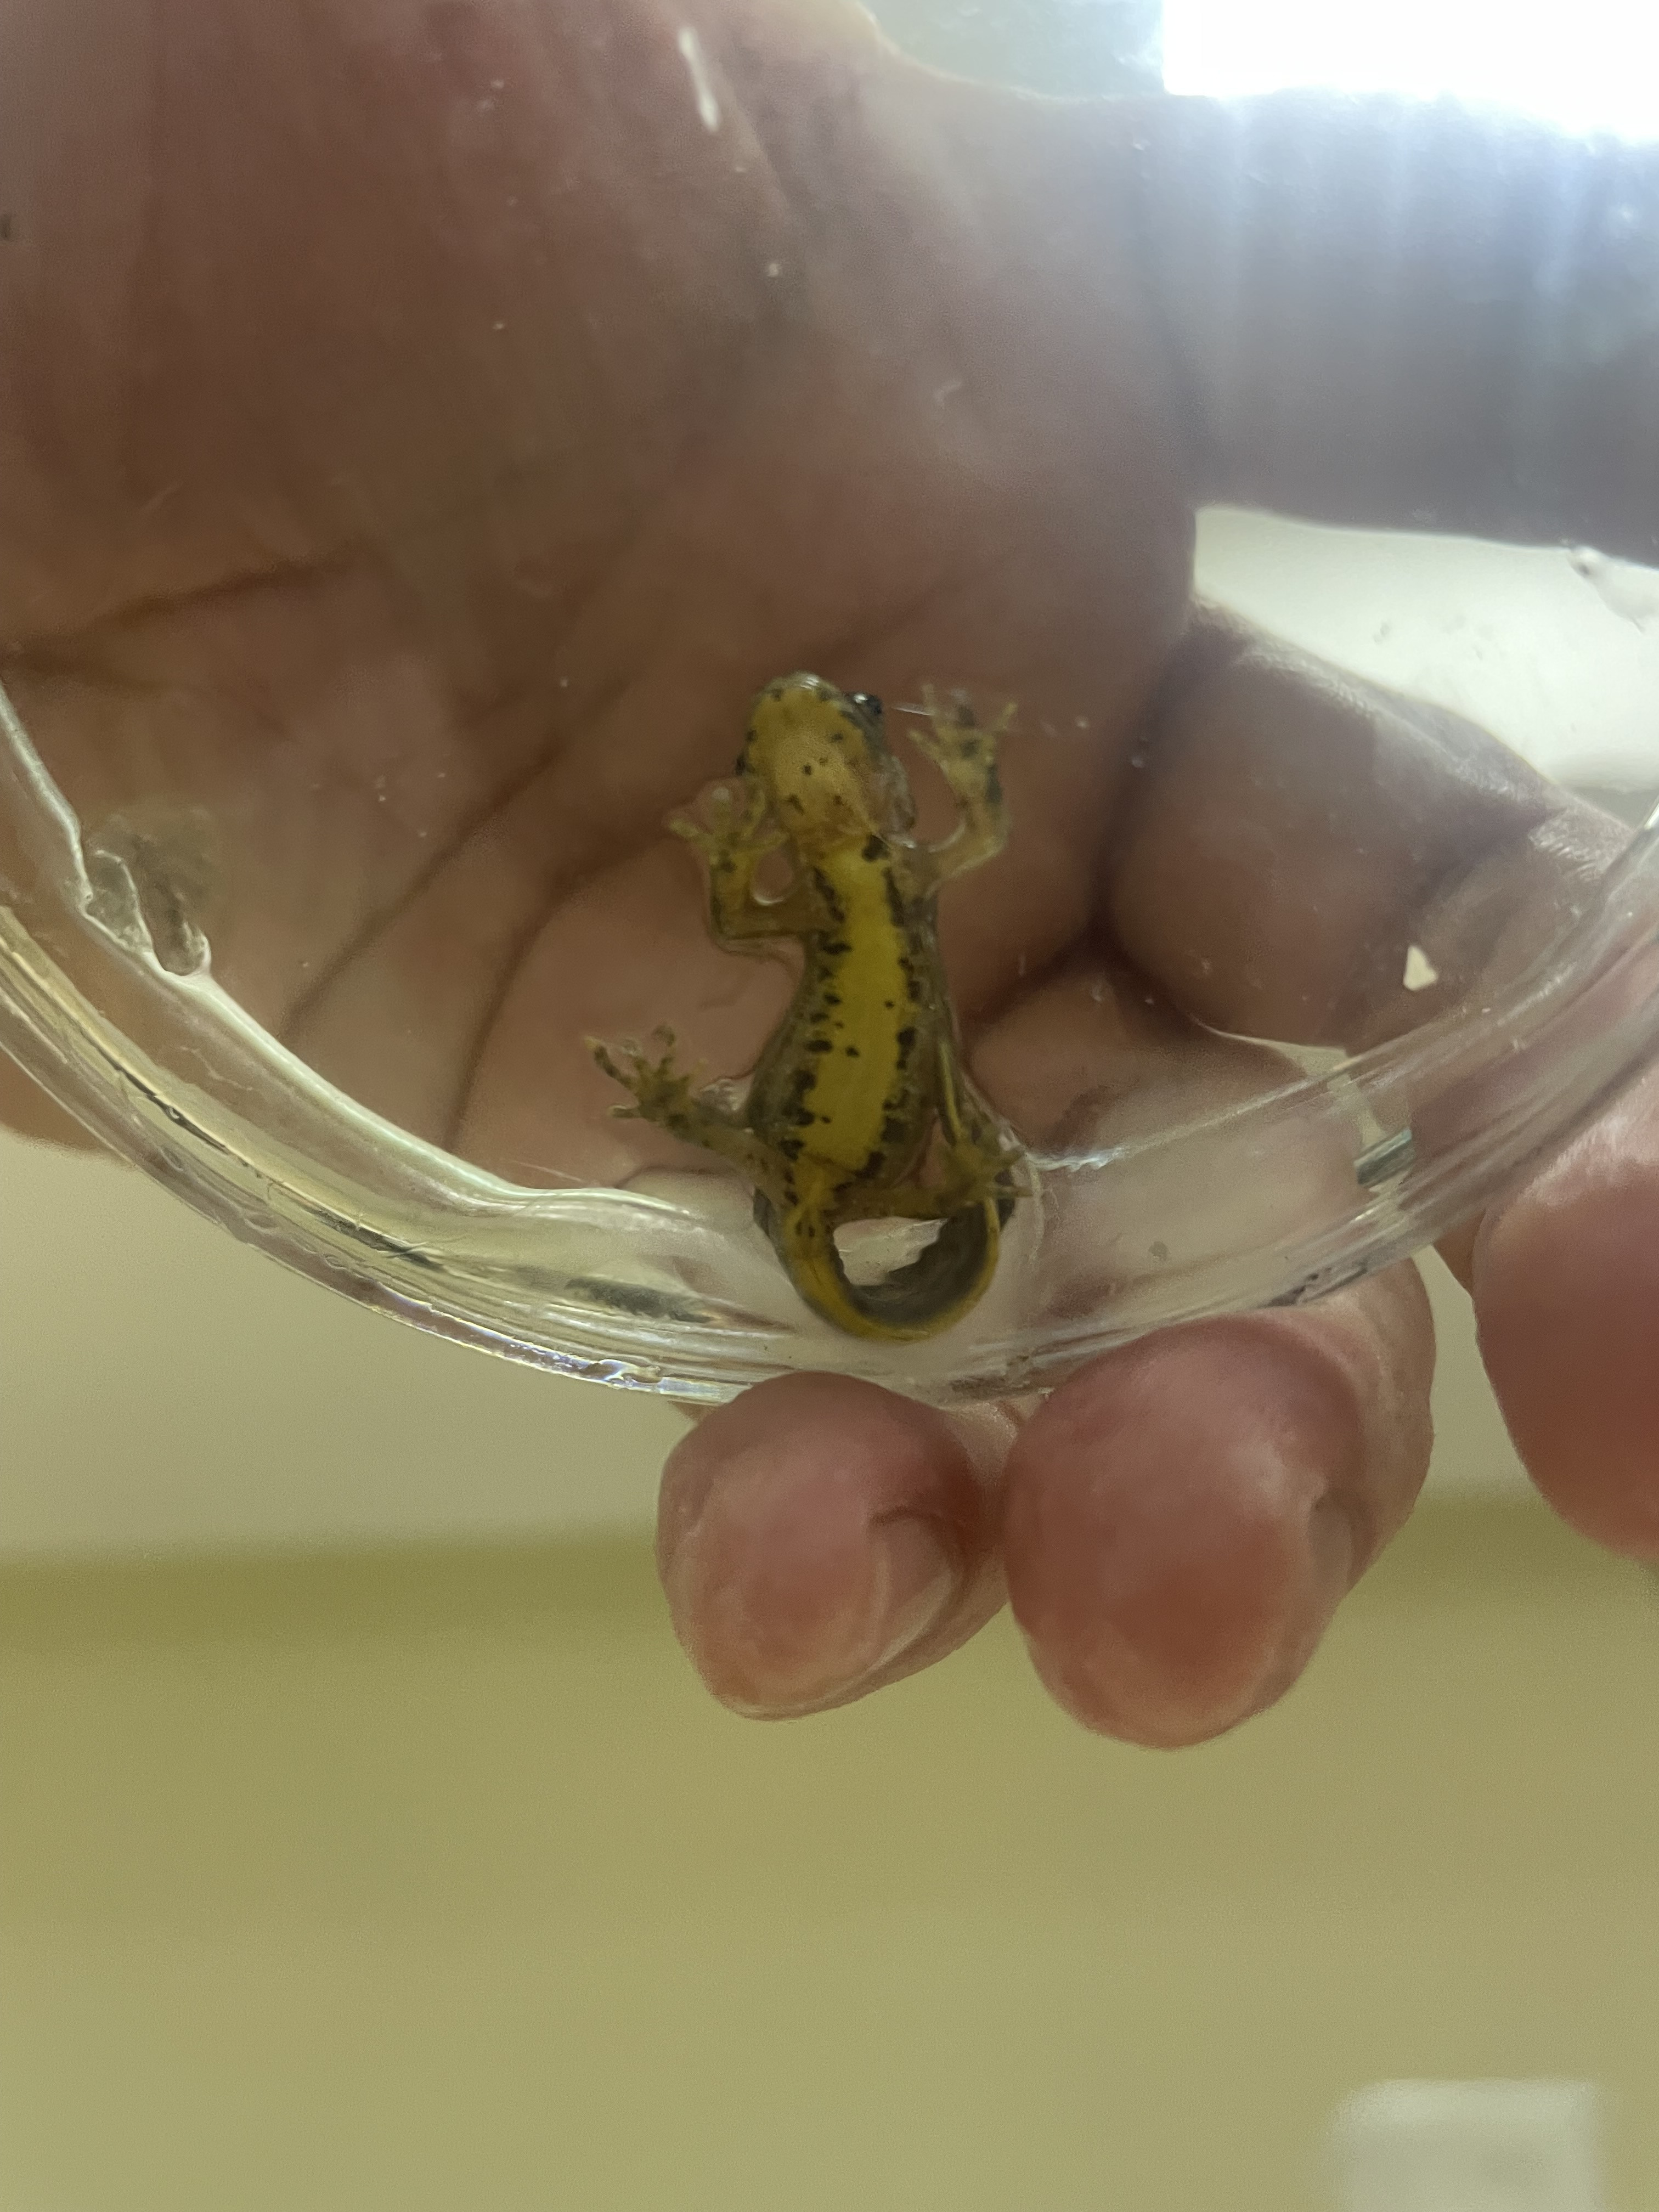Karelin_newt: (746, 881, 943, 1184)
